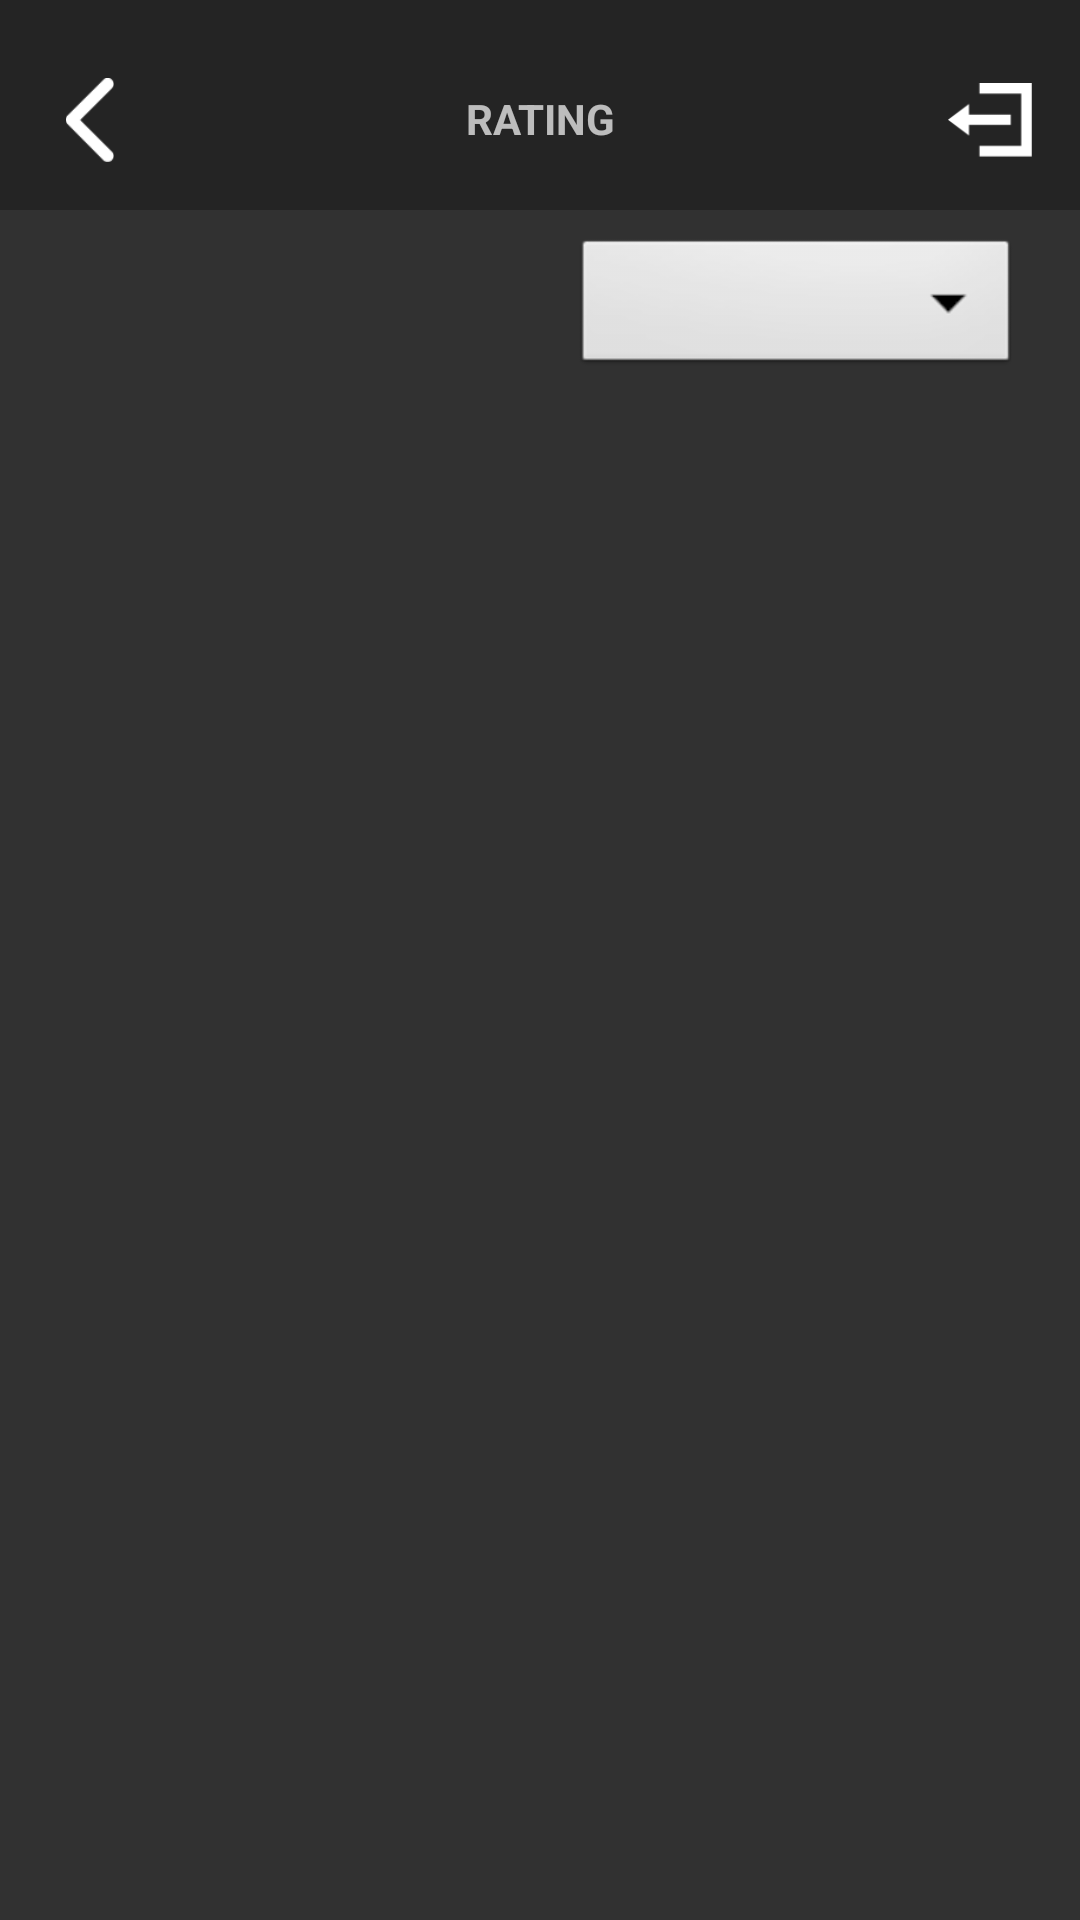

Point at icon controls on the screen. Image size 1080*1920, points as point (x, y).
back: point (90, 120)
